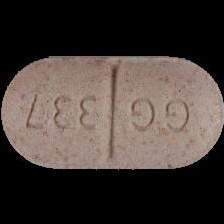0781-5186: (0, 0, 224, 224)
